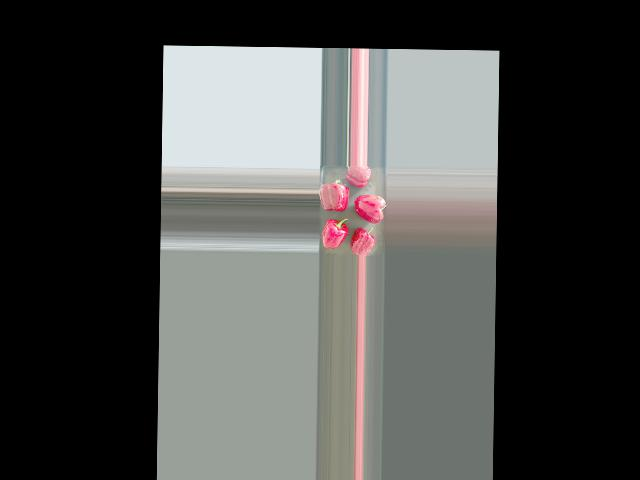bell_pepper: (344, 166, 375, 188)
